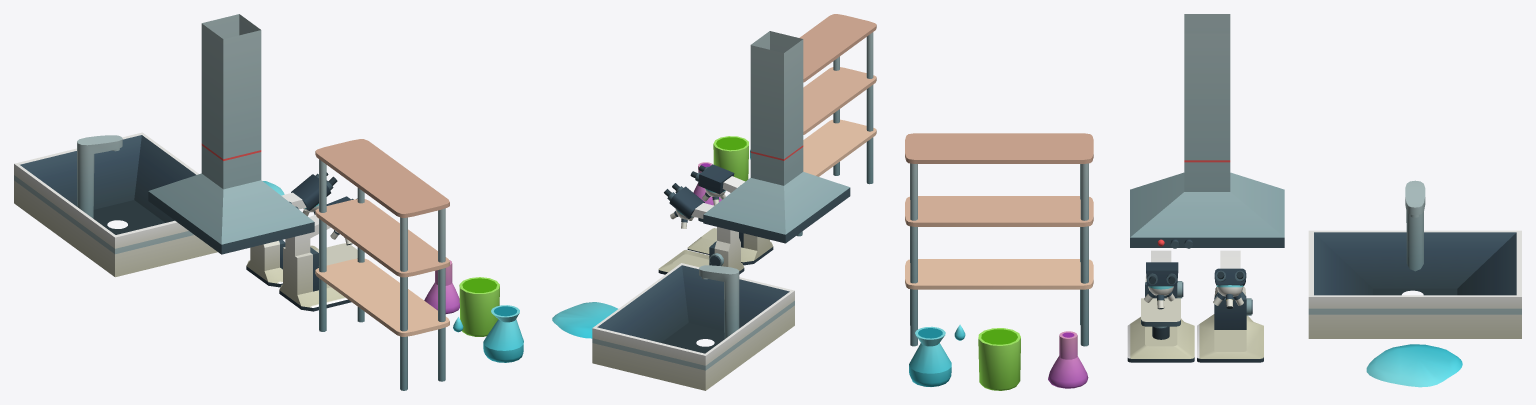
Rendered from Drop_pack.fbx.
3 views of the same model, side by side, from view 1: azimuth 30°, elevation 25°; view 2: azimuth 150°, elevation 25°; view 3: azimuth 270°, elevation 25° (orthographic). The views are drawn at different scales.
Parts seen in each view (by area): view 1: shelf, hood, sink, microscope, microscope.001, flask2, flask1, crane, flask3; view 2: sink, hood, shelf, microscope.001, microscope, Cube, crane, flask2; view 3: sink, shelf, hood, microscope, microscope.001, Cube, flask2, flask1, crane, flask3.
Part boxes in pixels (<box>): shelf: <box>315,139,449,390</box>; hood: <box>148,14,314,254</box>; sink: <box>14,132,217,277</box>; microscope: <box>279,196,357,311</box>; microscope.001: <box>246,172,337,287</box>; flask2: <box>459,277,499,336</box>; flask1: <box>483,305,523,362</box>; crane: <box>77,135,122,218</box>; flask3: <box>424,260,459,313</box>; sink: <box>592,263,794,390</box>; hood: <box>703,31,850,243</box>; shelf: <box>796,14,876,236</box>; microscope.001: <box>658,183,744,274</box>; microscope: <box>687,164,773,265</box>; Cube: <box>552,302,617,338</box>; crane: <box>699,265,739,338</box>; flask2: <box>713,136,748,181</box>; sink: <box>1308,230,1521,338</box>; shelf: <box>905,133,1093,346</box>; hood: <box>1130,14,1284,248</box>; microscope: <box>1127,250,1194,362</box>; microscope.001: <box>1197,250,1263,362</box>; Cube: <box>1366,344,1462,387</box>; flask2: <box>978,328,1020,390</box>; flask1: <box>909,326,951,386</box>; crane: <box>1405,180,1425,271</box>; flask3: <box>1048,331,1088,388</box>.
Bounding box in the file's own units: 1245 × 1370 × 2669.
Materials: 1 (1 with a texture image).
